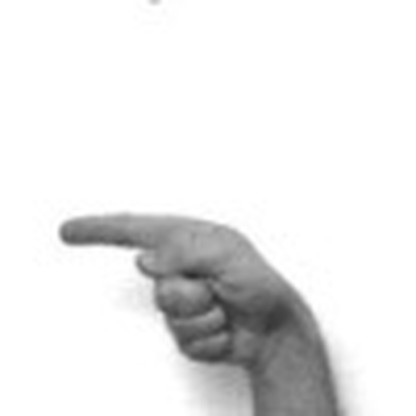g: (48, 199, 277, 366)
